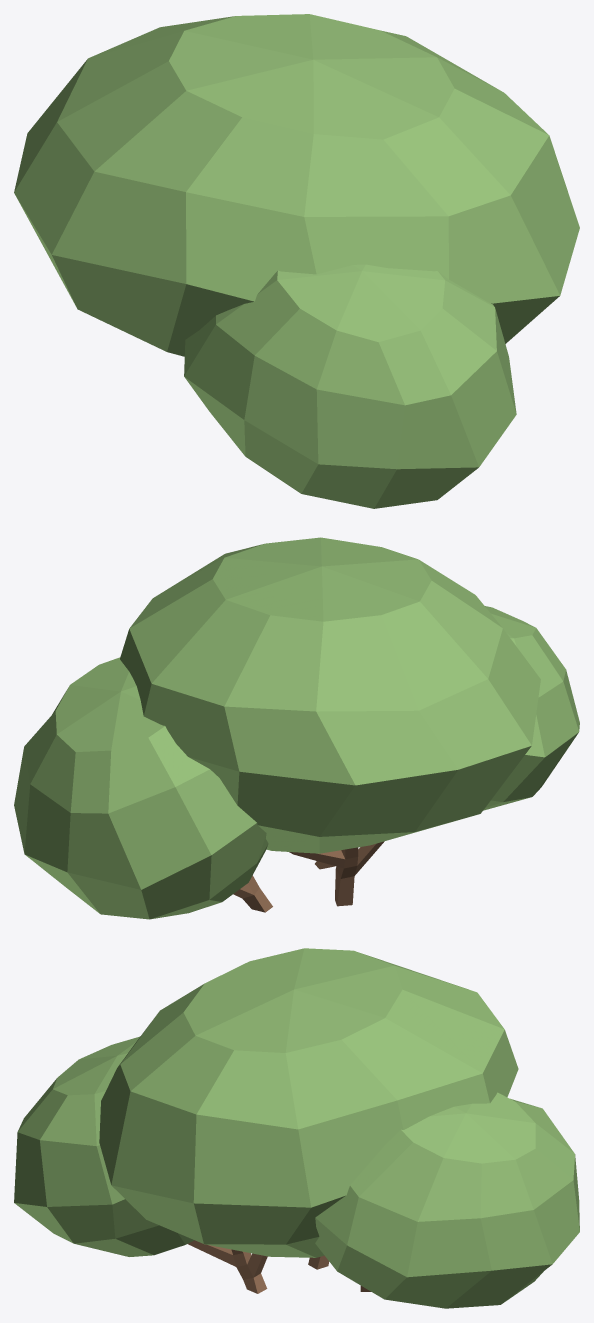
The model's file is Bushes_bush_01.004.fbx.
3 views of the same model, one above another, from view 1: azimuth 30°, elevation 25°; view 2: azimuth 150°, elevation 25°; view 3: azimuth 270°, elevation 25° (orthographic). The views are drawn at different scales.
Parts seen in each view (by area): view 1: Bushes_bush_01.004; view 2: Bushes_bush_01.004; view 3: Bushes_bush_01.004.
Boxes of the visible parts, left/top/right/bottom form: Bushes_bush_01.004: left=14, top=14, right=579, bottom=508; Bushes_bush_01.004: left=14, top=537, right=579, bottom=919; Bushes_bush_01.004: left=14, top=948, right=579, bottom=1308.
Bounding box in the file's own units: 79.29 × 55.19 × 96.83.
